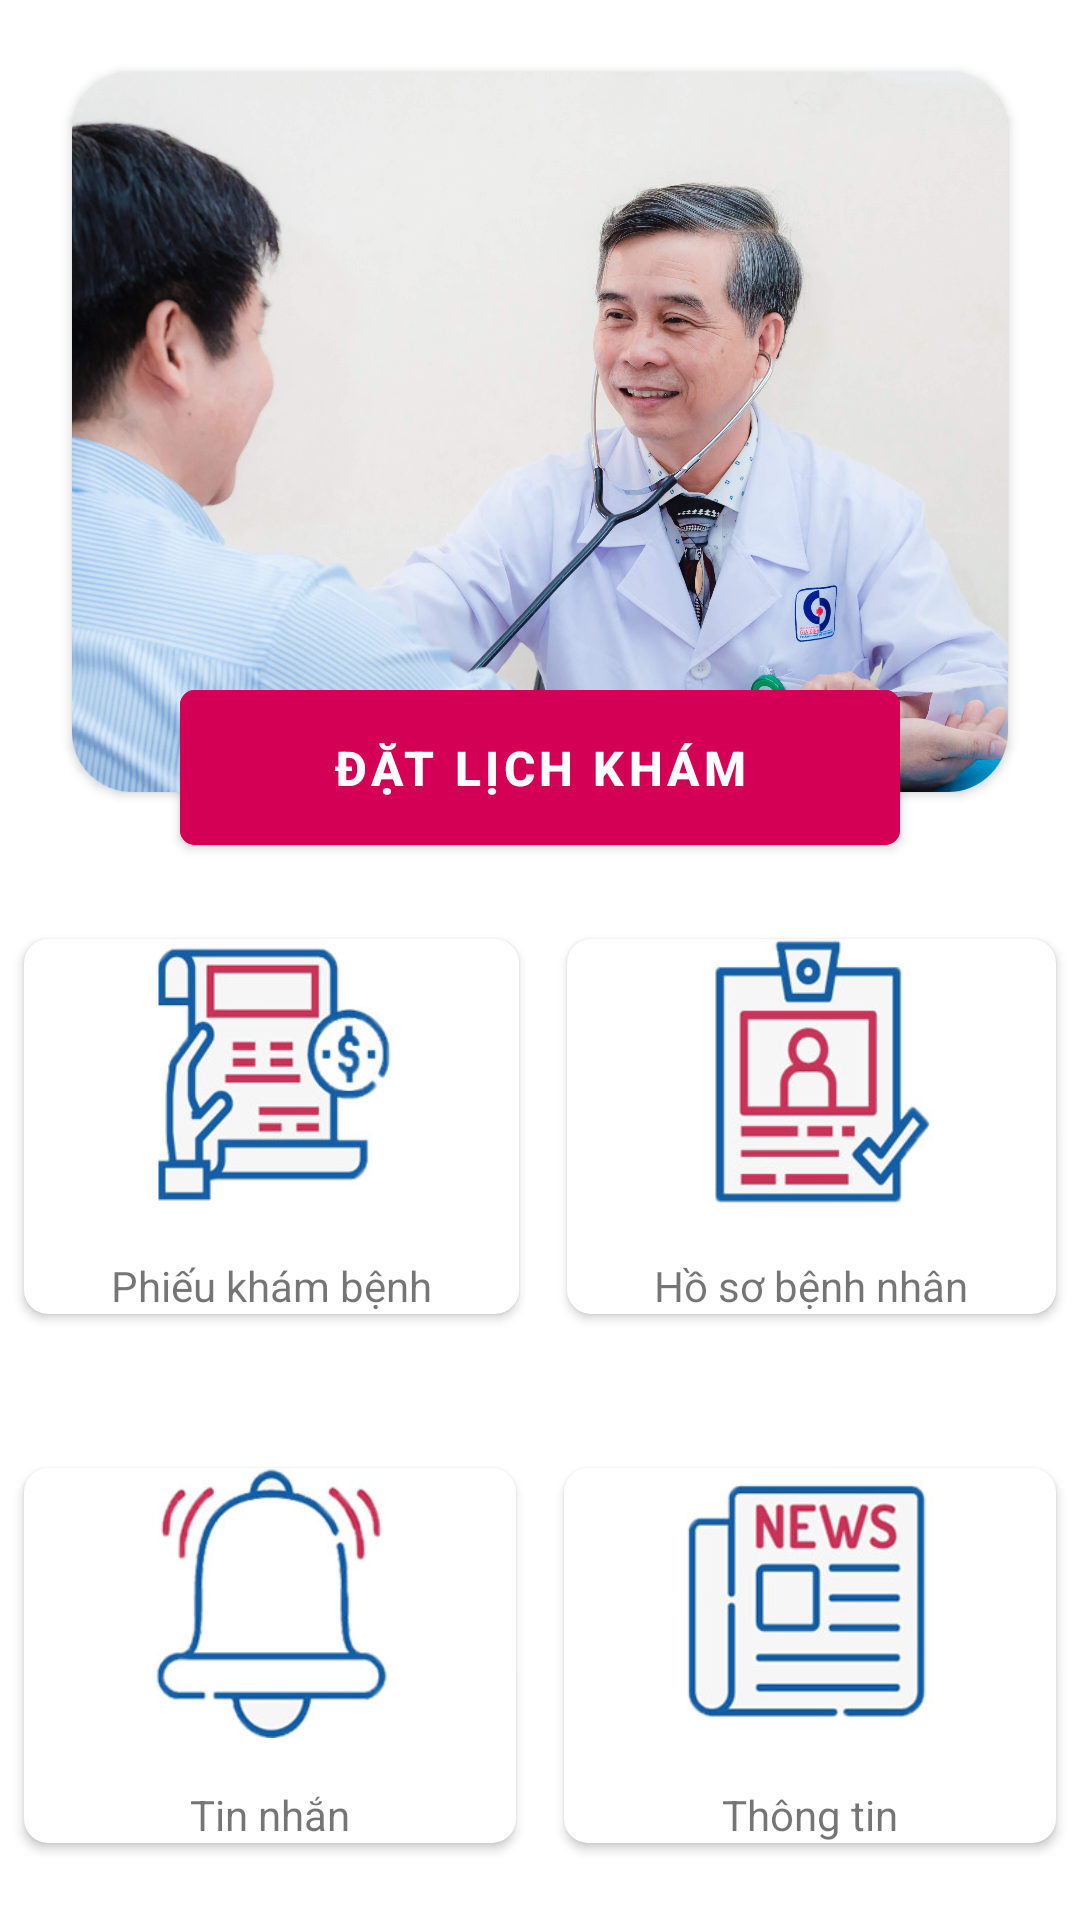

Icon click points for this 1080*1920 phone screenshot, format [x,y]:
ring: [272,1603]
tax: [274,1074]
